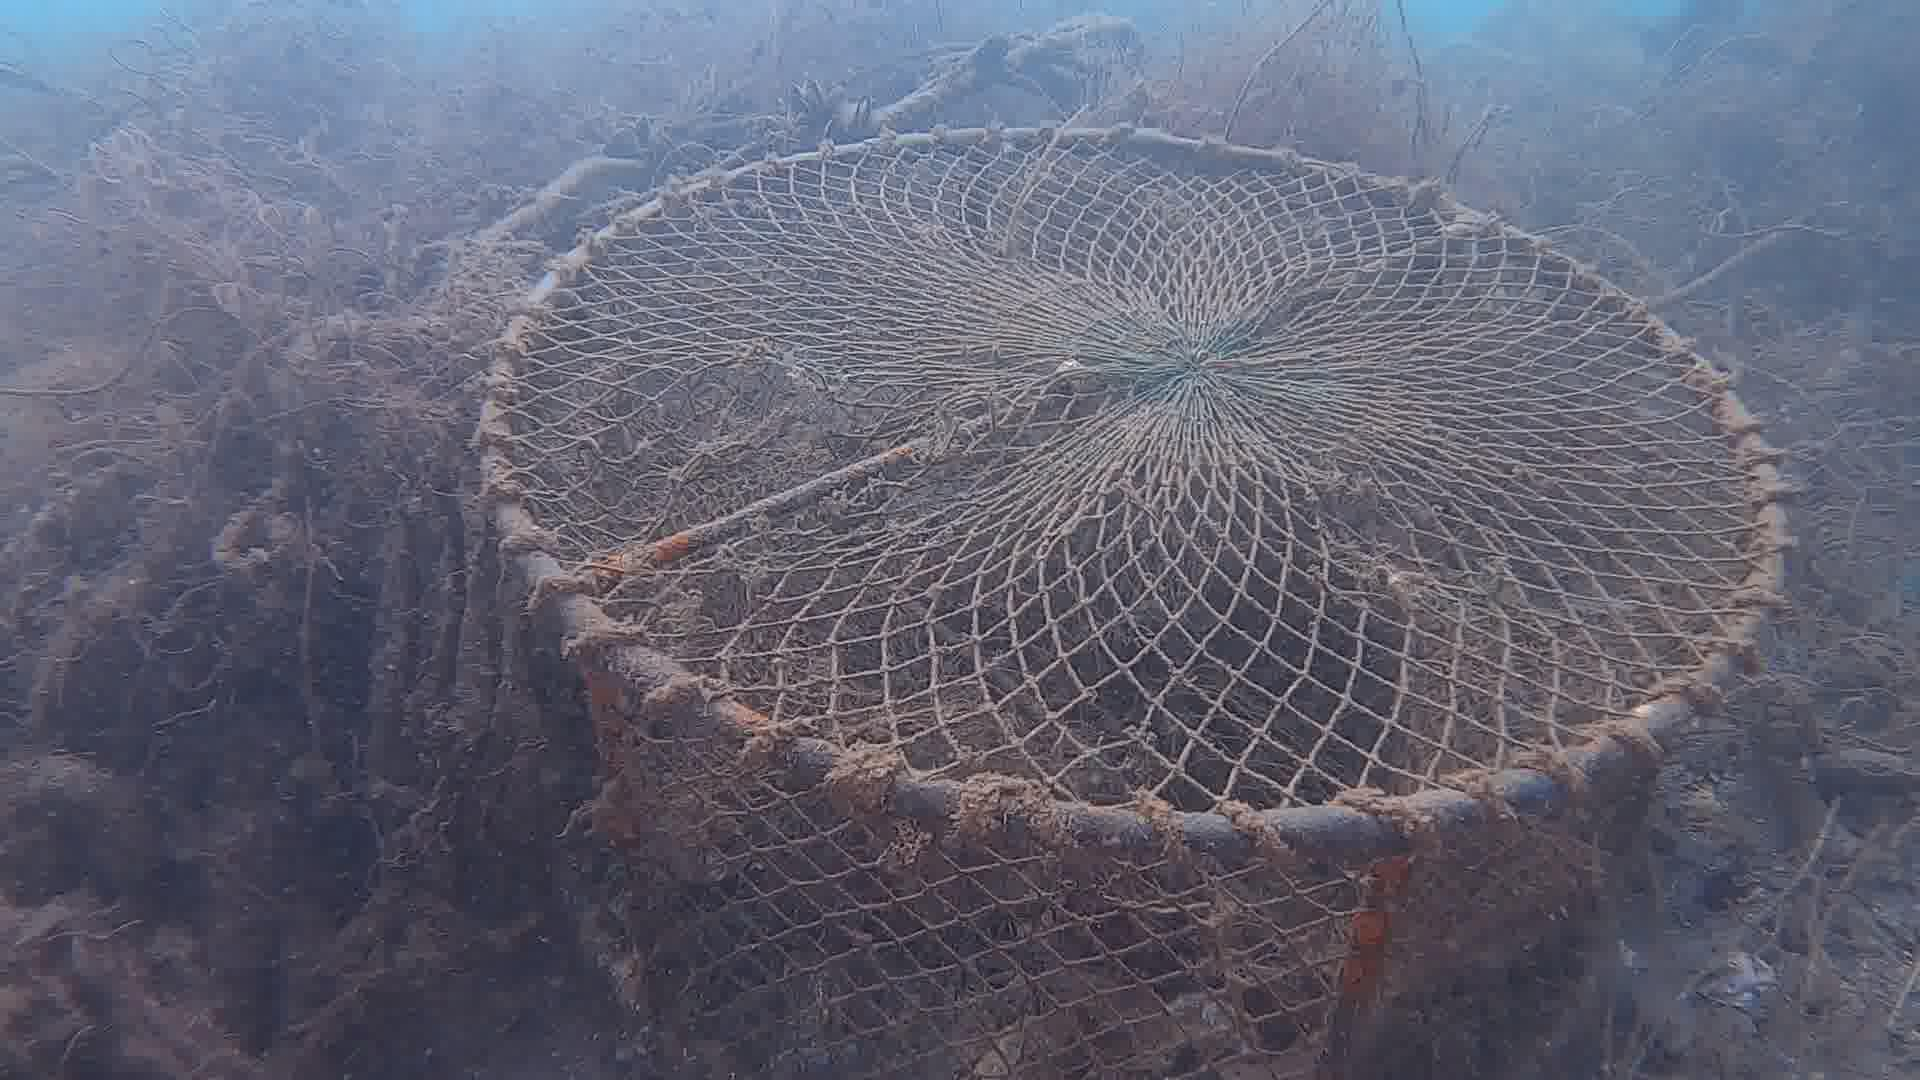circular fish trap: (465, 124, 1791, 1080)
